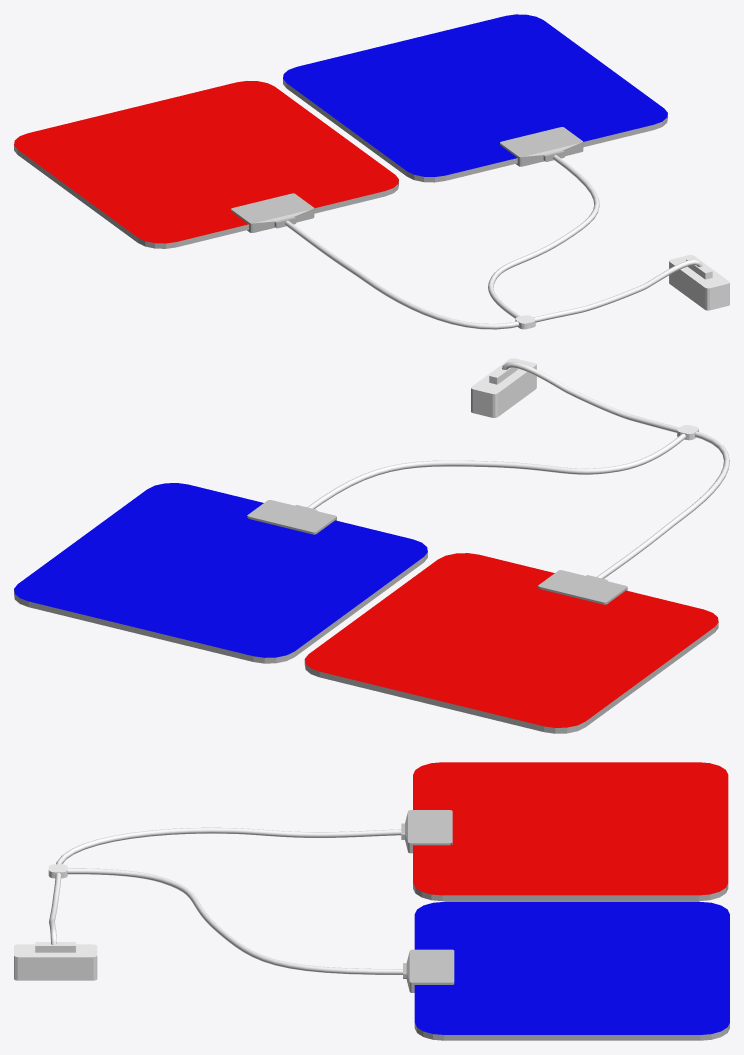
File: AED_PadSet (2).fbx
The picture shows the model from 3 angles, top to bottom: view 1: azimuth 30°, elevation 25°; view 2: azimuth 150°, elevation 25°; view 3: azimuth 270°, elevation 25°; orthographic projection. The views are drawn at different scales.
Parts seen in each view (by area): view 1: Pad2, Pad1, Plug, Cable1, Cable2, Cable3; view 2: Pad1, Pad2, Cable2, Plug, Cable1, Cable3; view 3: Pad1, Pad2, Plug, Cable2, Cable1, Cable3.
Part boxes in pixels (bbox=[...]): Pad2: bbox=[283, 14, 667, 182]; Pad1: bbox=[14, 81, 398, 248]; Plug: bbox=[669, 255, 729, 310]; Cable1: bbox=[285, 220, 518, 329]; Cable2: bbox=[488, 155, 599, 318]; Cable3: bbox=[533, 259, 702, 322]; Pad1: bbox=[304, 553, 718, 733]; Pad2: bbox=[14, 483, 427, 663]; Cable2: bbox=[307, 433, 685, 508]; Plug: bbox=[471, 358, 536, 417]; Cable1: bbox=[597, 431, 729, 578]; Cable3: bbox=[502, 361, 679, 432]; Pad1: bbox=[401, 762, 728, 901]; Pad2: bbox=[403, 901, 729, 1040]; Plug: bbox=[14, 942, 97, 980]; Cable2: bbox=[67, 868, 402, 974]; Cable1: bbox=[56, 827, 401, 864]; Cable3: bbox=[49, 872, 61, 944].
Bounding box in the file's own units: 17.41 × 1.16 × 19.3.
